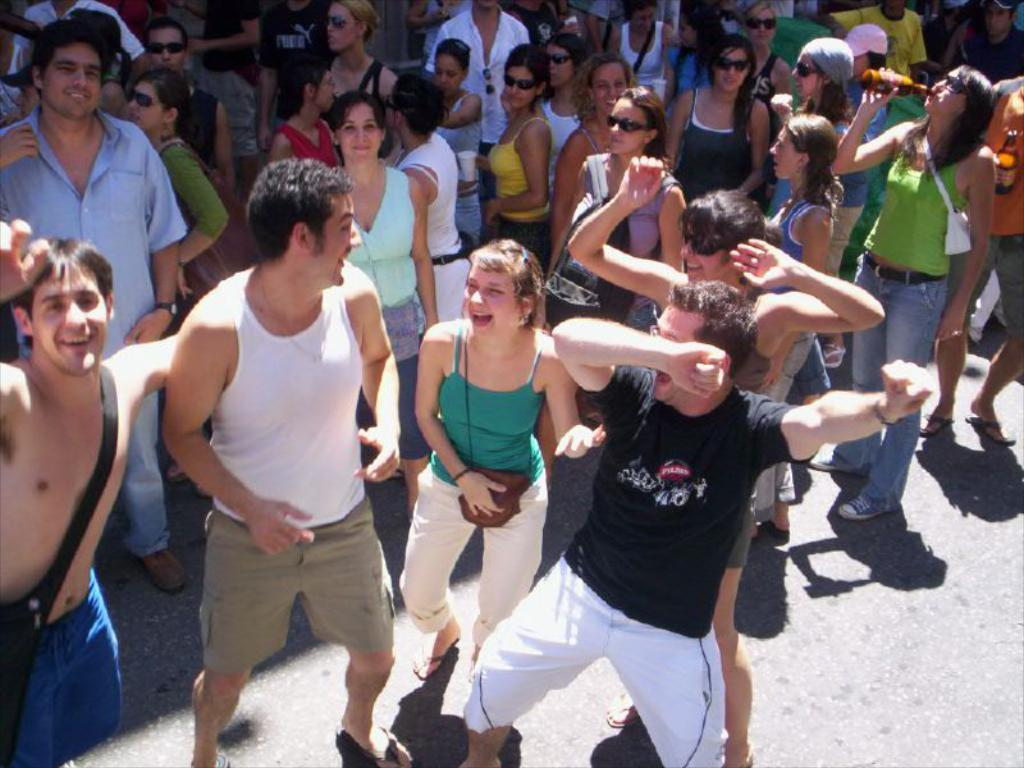Sem Máscara: (31, 262, 104, 377), (646, 305, 698, 400), (310, 188, 358, 284), (40, 41, 99, 113), (463, 261, 514, 337), (679, 217, 732, 280), (600, 91, 645, 151), (339, 103, 379, 158), (121, 76, 162, 129), (919, 67, 965, 114), (144, 21, 187, 70), (714, 45, 752, 91), (596, 60, 631, 108), (321, 1, 355, 49), (498, 64, 534, 108), (770, 126, 795, 175), (747, 6, 775, 40), (544, 40, 568, 77), (434, 54, 458, 90)
